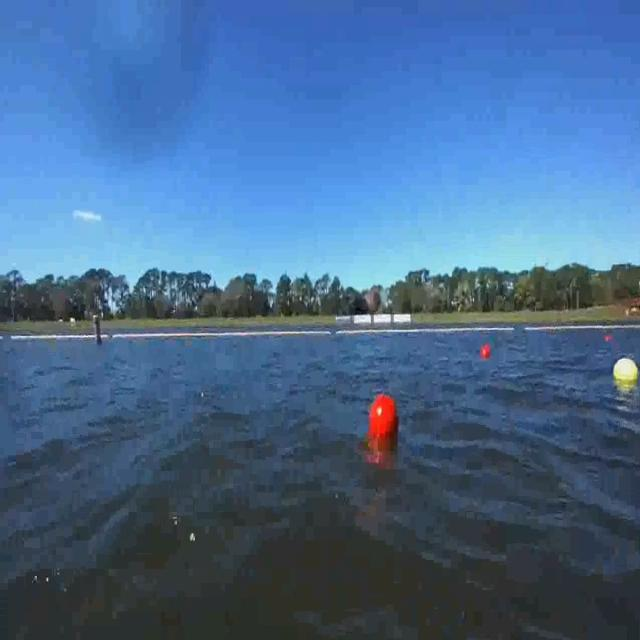red-buoy: (369, 394, 399, 441), (481, 344, 493, 360)
yellow-buoy: (614, 357, 639, 384)
